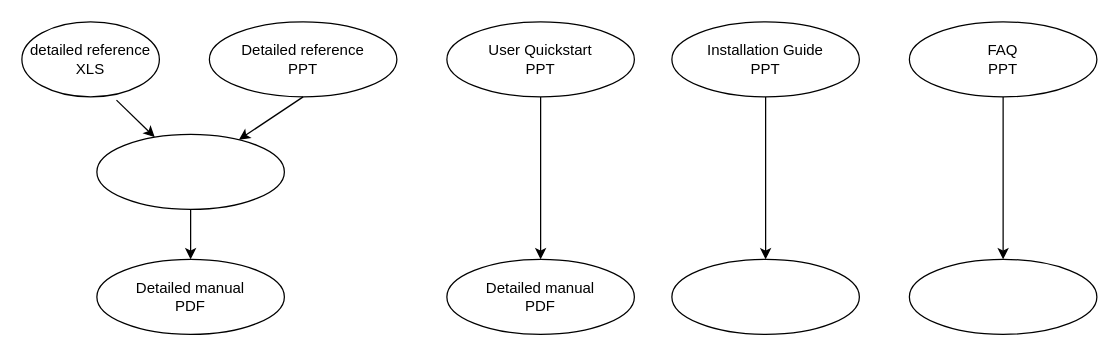
Image size: 1119x356. Some labels were removed from this diagram. The centre of each missing label's shape, as x and y in pixels:
Detailed manual DOC: the point at 190,171
FAQ PDF: the point at 1002,296
Installation Guide PDF: the point at 765,296
